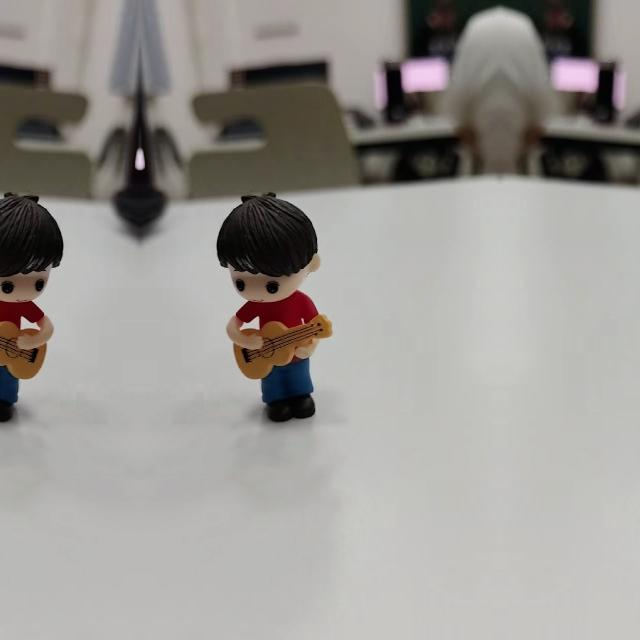man cloth: (230, 295, 320, 337), (0, 295, 49, 337)
man head: (218, 188, 324, 306), (0, 188, 62, 305)
trousers: (257, 356, 319, 424), (0, 355, 23, 424)
